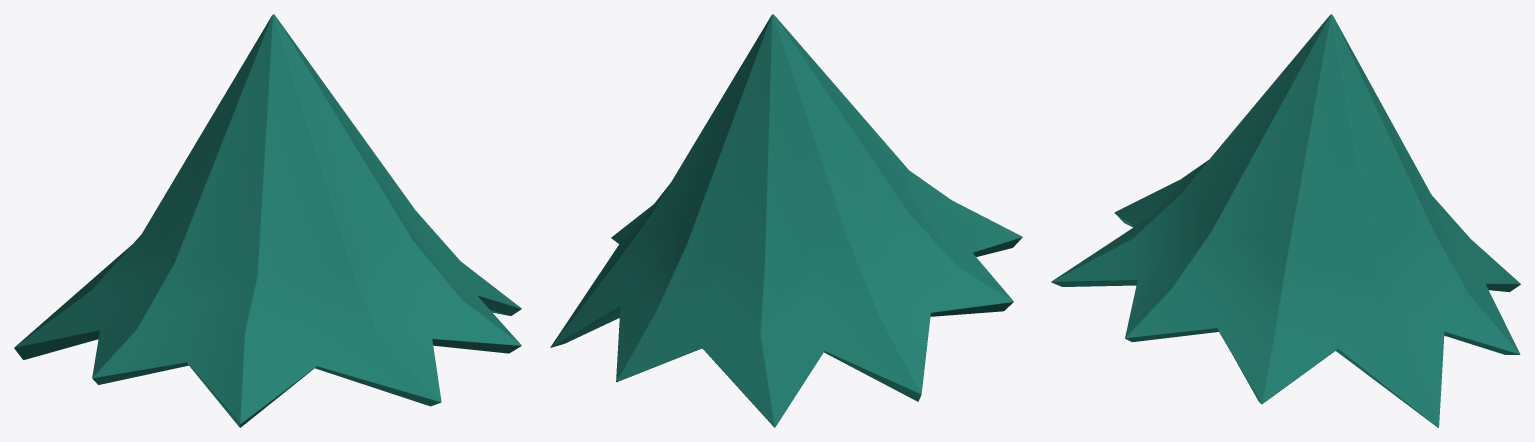
File: tree.fbx
The picture shows the model from 3 angles, left to right: view 1: azimuth 30°, elevation 25°; view 2: azimuth 150°, elevation 25°; view 3: azimuth 270°, elevation 25°; orthographic projection. The views are drawn at different scales.
Parts seen in each view (by area): view 1: bottom.001; view 2: bottom.001; view 3: bottom.001.
Boxes of the visible parts, <box> form: bottom.001: <box>14,14,521,427</box>; bottom.001: <box>550,14,1022,427</box>; bottom.001: <box>1051,14,1520,427</box>.
Bounding box in the file's own units: 858 × 685 × 877.
